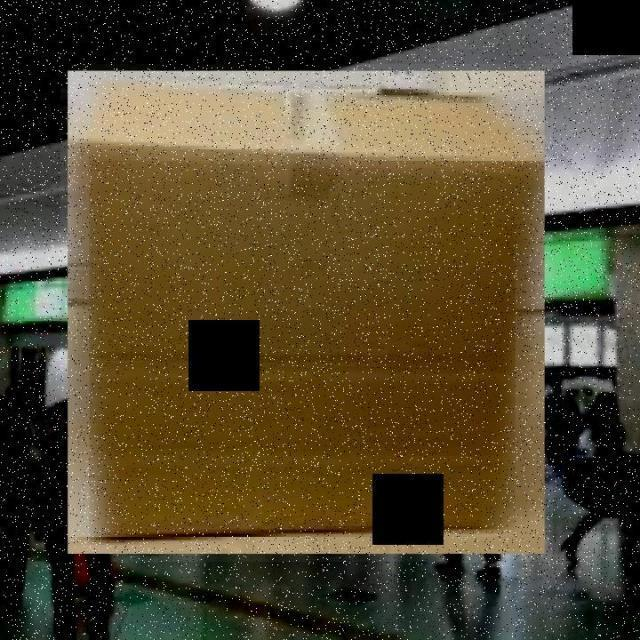box: (61, 64, 554, 562)
